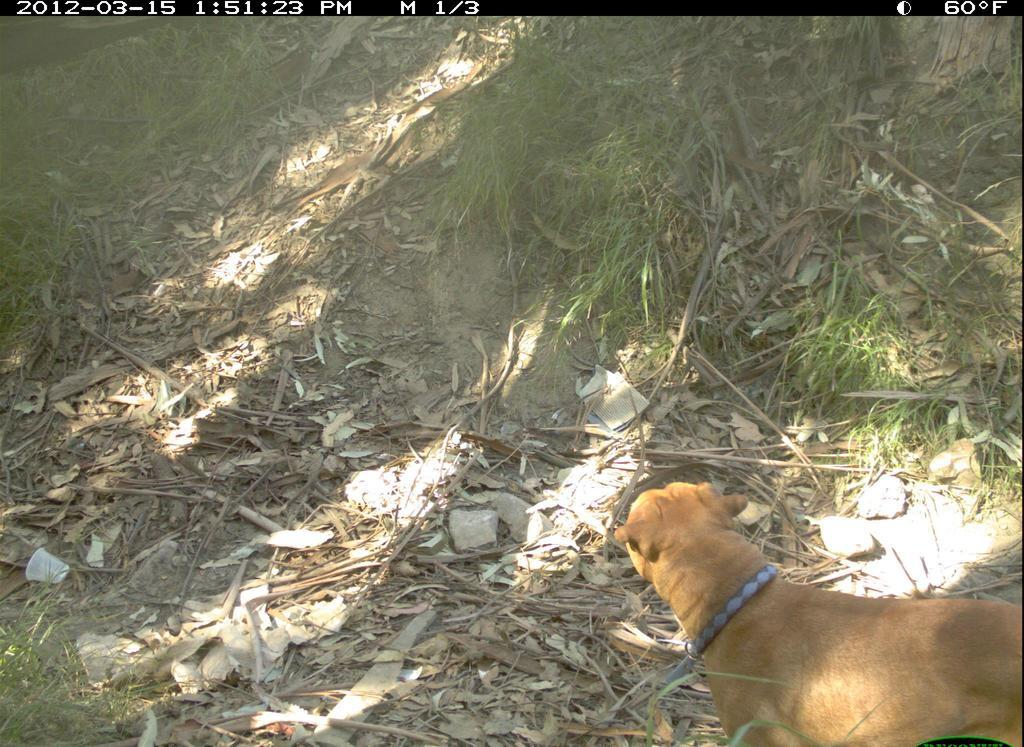dog: (609, 475, 1021, 740)
